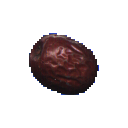gd: (23, 22, 109, 111)
